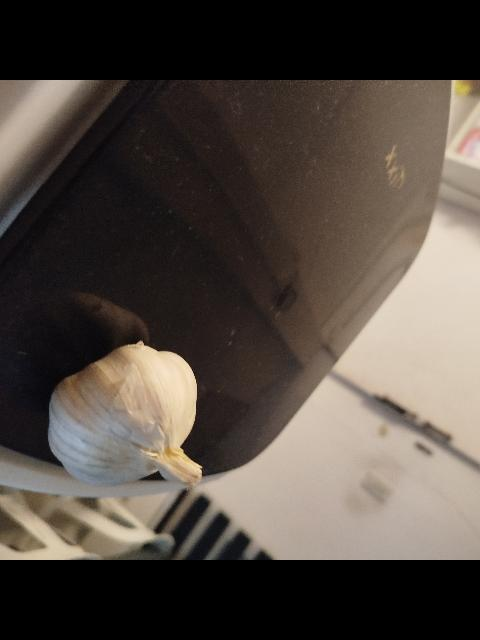garlic: (46, 340, 202, 488)
